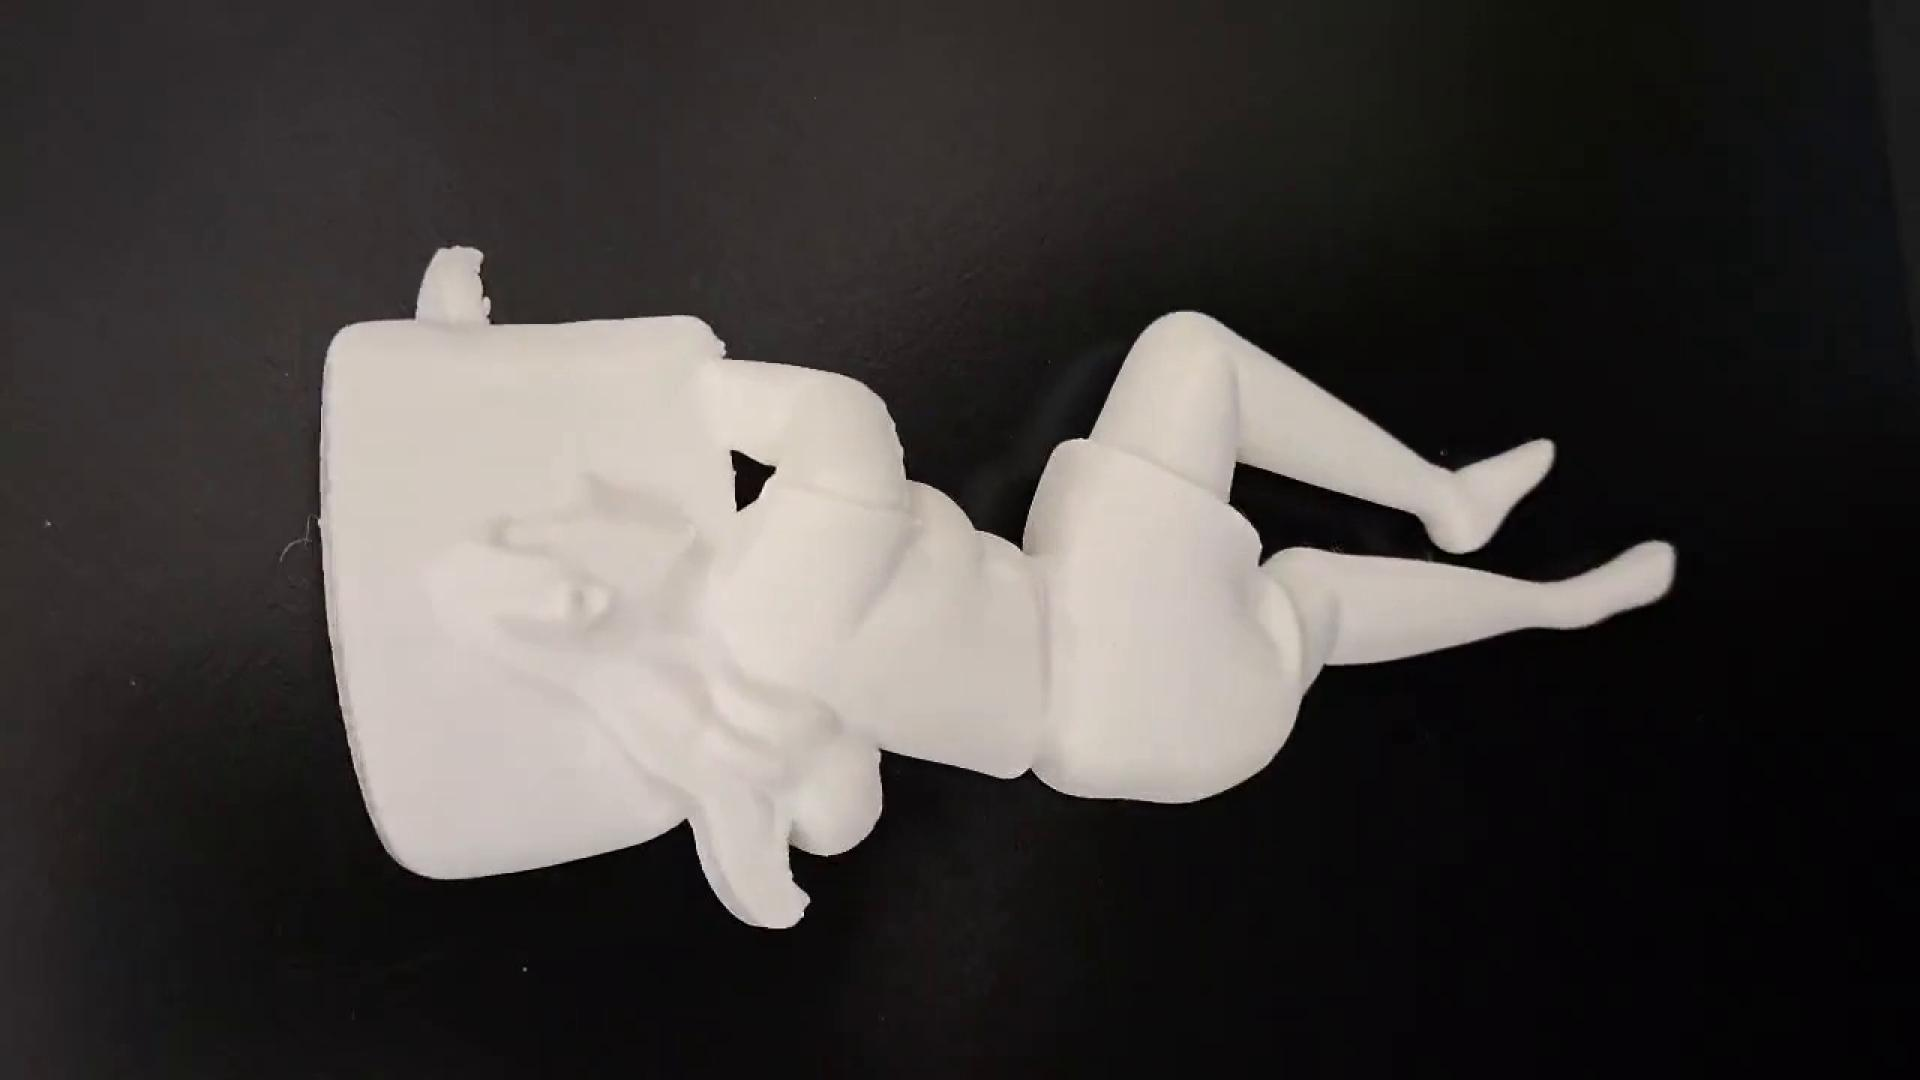Good-style: (315, 236, 1684, 931)
